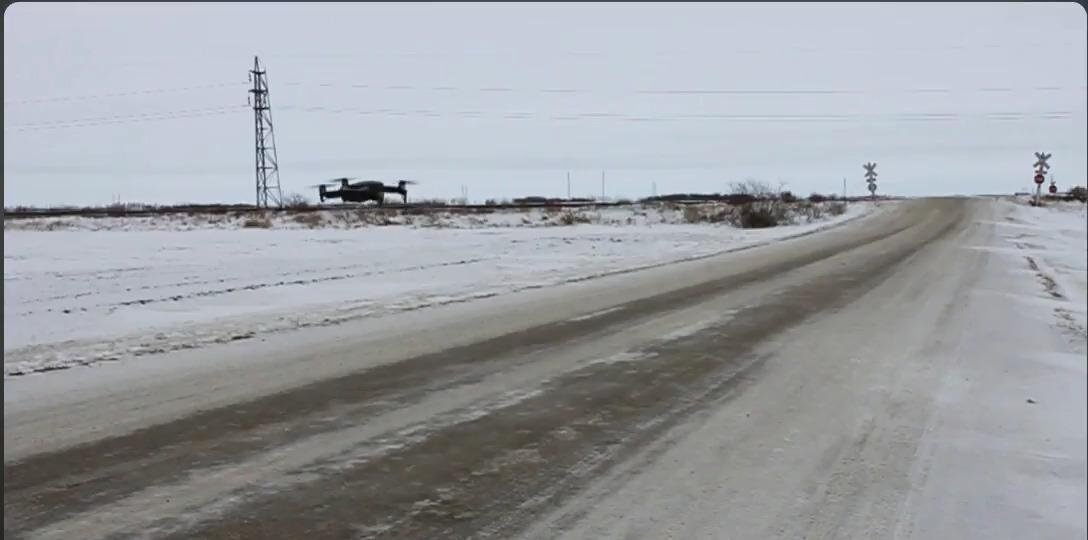dr: (307, 173, 420, 211)
